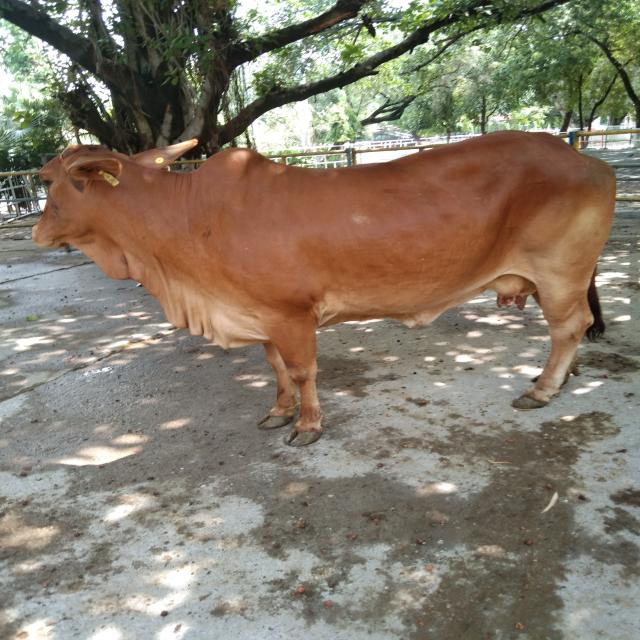Hoof: (284, 426, 323, 447), (511, 394, 548, 410), (257, 413, 293, 429)
